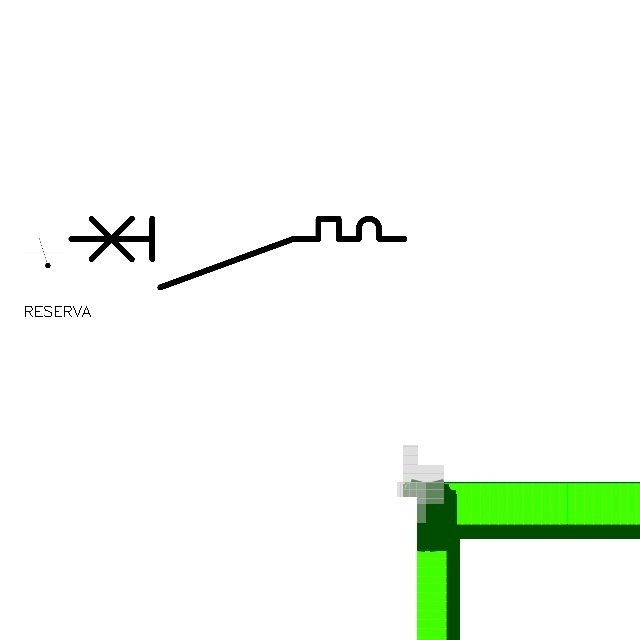interruptor_termomagnetico: (62, 210, 413, 296)
